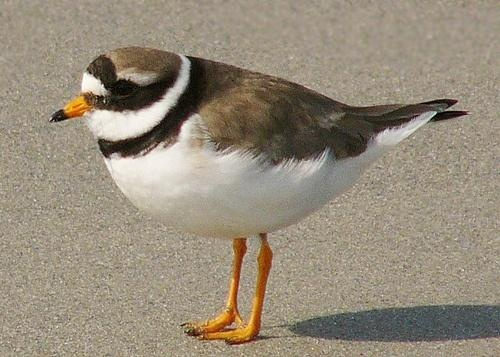bird: (49, 47, 474, 345)
